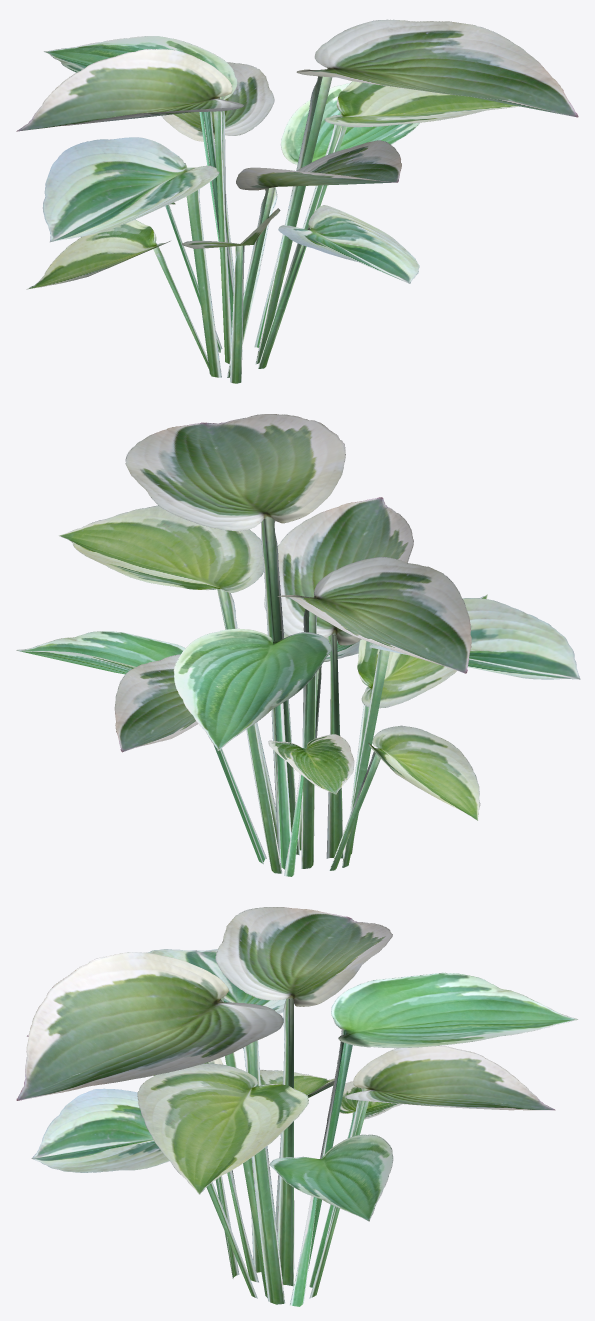
The model's file is plant_small_wg_00P.fbx.
3 views of the same model, one above another, from view 1: azimuth 30°, elevation 25°; view 2: azimuth 150°, elevation 25°; view 3: azimuth 270°, elevation 25° (orthographic). The views are drawn at different scales.
Parts seen in each view (by area): view 1: plant_small_wg_00P; view 2: plant_small_wg_00P; view 3: plant_small_wg_00P.
Part boxes in pixels (x1,y1,x2,y2): plant_small_wg_00P: (16,19,578,383); plant_small_wg_00P: (16,414,580,876); plant_small_wg_00P: (16,907,577,1306).
Bounding box in the file's own units: 75.27 × 47.62 × 68.06.
1 material, 1 textured.
